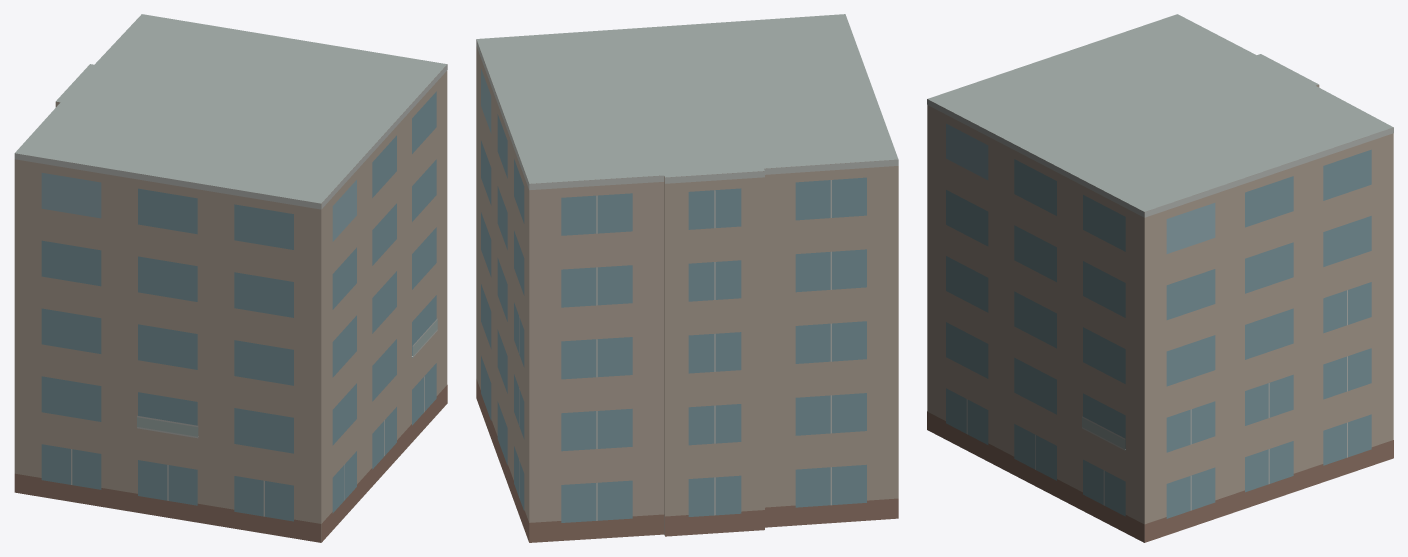
Rendered from survey-upis-32772485.glb.
3 renders of one model, left to right at view 1: azimuth 30°, elevation 25°; view 2: azimuth 150°, elevation 25°; view 3: azimuth 270°, elevation 25°, orthographic. The views are drawn at different scales.
Visible parts, largest first — view 1: survey-upis-32772485.tmp; view 2: survey-upis-32772485.tmp; view 3: survey-upis-32772485.tmp.
Boxes of the visible parts, x1,y1,x2,y2 form: survey-upis-32772485.tmp: (14,14,447,542); survey-upis-32772485.tmp: (476,14,898,542); survey-upis-32772485.tmp: (927,14,1393,542).
Size of the model in its own units: 17.71 by 13.8 by 17.64.
